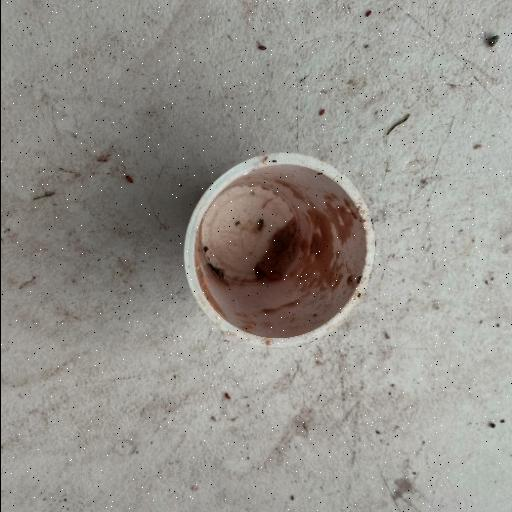Plastic: (182, 152, 376, 346)
